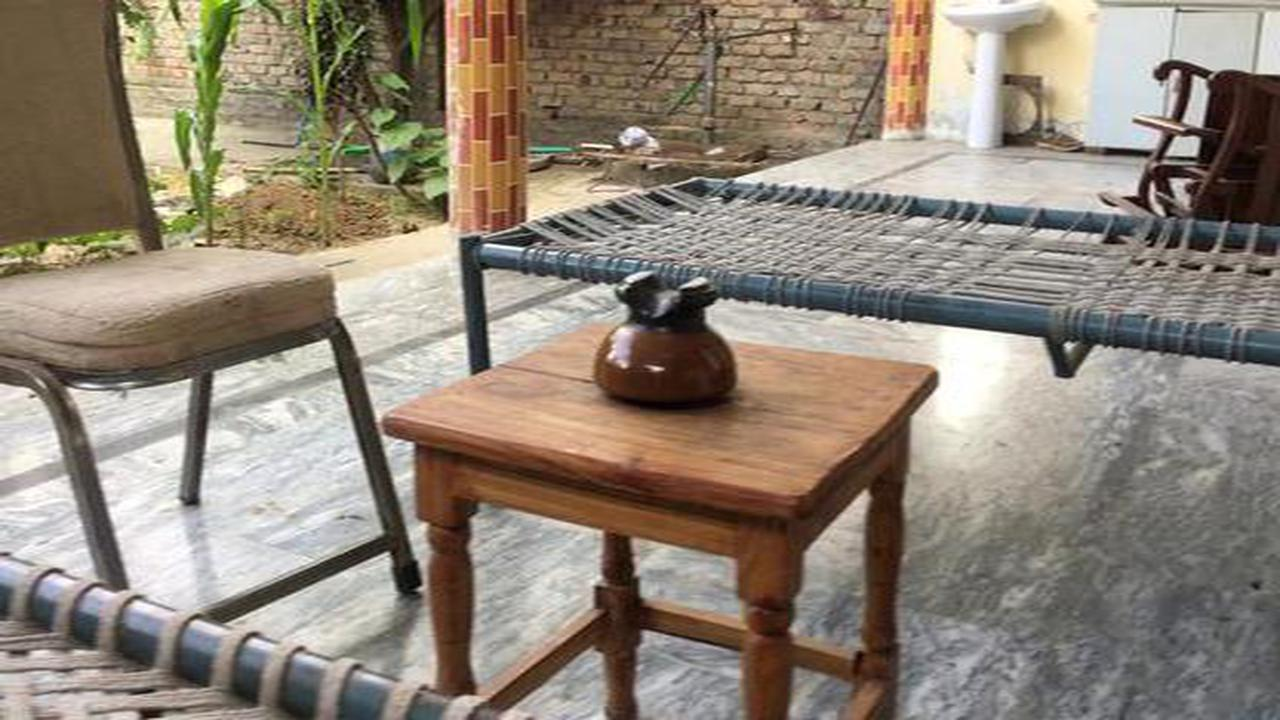insulator_pin: (564, 255, 764, 418)
